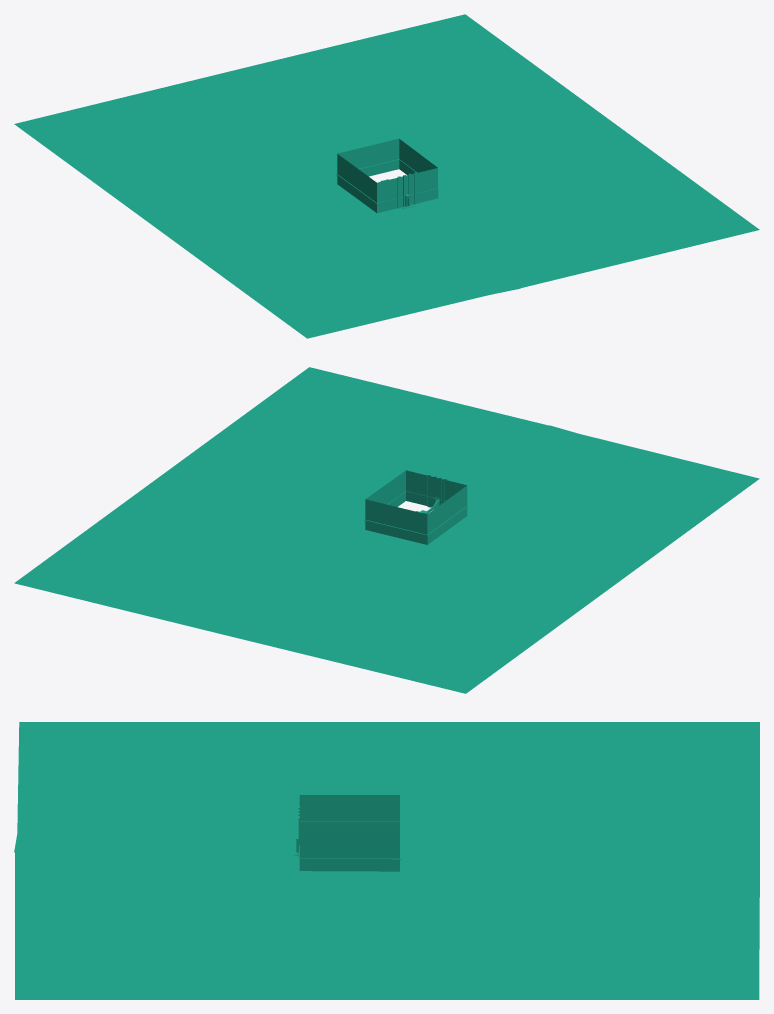
Rendered from level-rooms.aca38b0a.obj.
3 renders of one model, top to bottom at view 1: azimuth 30°, elevation 25°; view 2: azimuth 150°, elevation 25°; view 3: azimuth 270°, elevation 25°, orthographic. The views are drawn at different scales.
Parts seen in each view (by area): view 1: outer_floor, outer_walls; view 2: outer_floor, outer_walls; view 3: outer_floor, outer_walls, outer_road.
Part boxes in pixels (left/top/right/bottom): outer_floor: left=14, top=14, right=759, bottom=338; outer_walls: left=336, top=138, right=438, bottom=213; outer_floor: left=14, top=367, right=759, bottom=693; outer_walls: left=364, top=470, right=467, bottom=544; outer_floor: left=14, top=722, right=759, bottom=999; outer_walls: left=293, top=795, right=401, bottom=871; outer_road: left=14, top=850, right=292, bottom=852.
Size of what is drawn, in the model's own units: 7497 by 517 by 8503.
